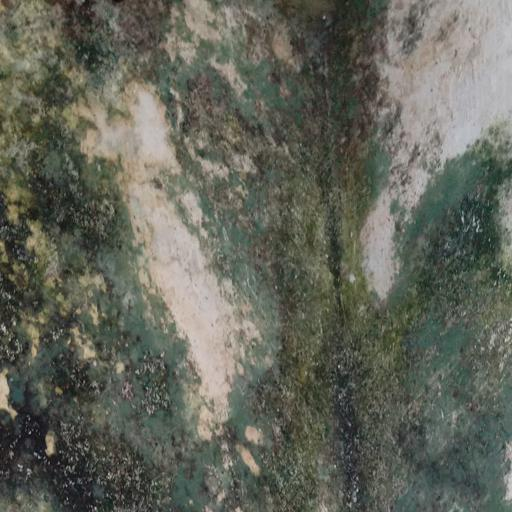algae: (5, 5, 510, 504)
